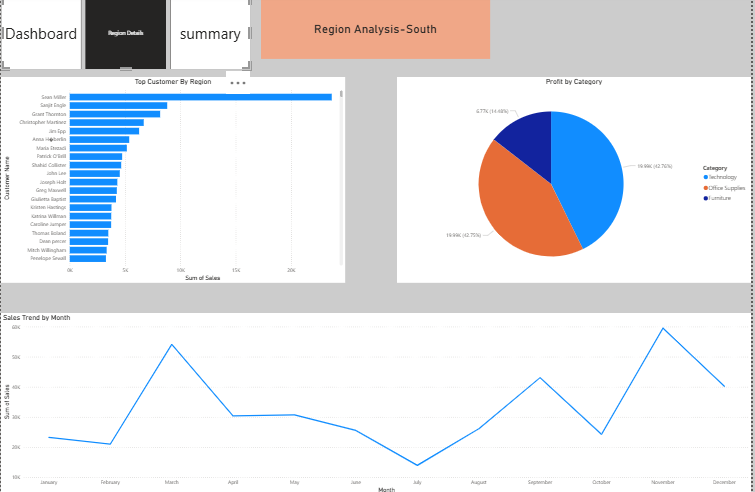

The page's visual inventory and layout, read from the dashboard file:
{"tool":"powerbi","page":{"name":"Region Details","canvas":[1800,1200],"ordinal":1},"visuals":[{"type":"barChart","title":"Top Customer By Region","fields":{"Category":["superstore.Customer Name"],"Y":["Sum(superstore.Sales)"]},"box":[0,194.4,825.6,494.4],"z":0},{"type":"pieChart","title":"Profit by Category","fields":{"Category":["superstore.Category"],"Y":["Sum(superstore.Profit)"]},"box":[950.4,194.4,849.6,494.4],"z":1000},{"type":"lineChart","title":" Sales Trend by Month","fields":{"Category":["superstore.Order Date.Variation.Date Hierarchy.Month"],"Y":["Sum(superstore.Sales)"]},"box":[0,760.8,1800,436.8],"z":2000},{"type":"card","fields":{"Values":["superstore.Region Detail title"]},"box":[624,0,549.6,151.2],"z":3000},{"type":"pageNavigator","box":[0,0,600,177.6],"z":3001}]}

Visuals, with their boxes on the page's 1800x1200 design canvas (x1, y1, x2, y2). These are canvas units, not pixel positions in the 755x492 screenshot, which may show the page scaled, cropped or inside an application window:
"Top Customer By Region" barChart: locate(0, 194, 826, 689)
"Profit by Category" pieChart: locate(950, 194, 1800, 689)
" Sales Trend by Month" lineChart: locate(0, 761, 1800, 1198)
card - superstore.Region Detail title: locate(624, 0, 1174, 151)
pageNavigator: locate(0, 0, 600, 178)
